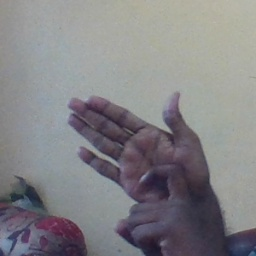R: (64, 84, 208, 247)
